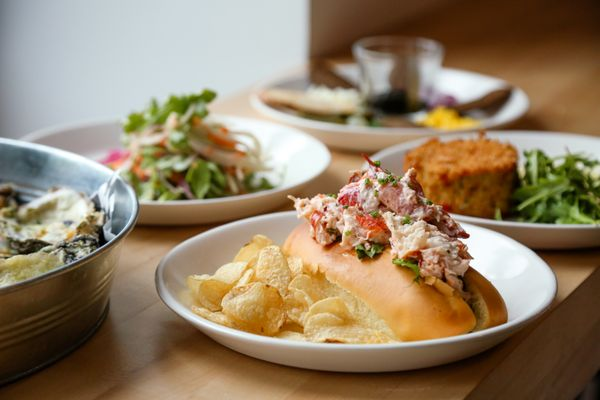pizza: (351, 35, 446, 113)
soup: (281, 157, 484, 340)
sushi: (154, 190, 591, 376), (21, 93, 334, 226), (0, 137, 139, 386), (104, 102, 332, 225)
